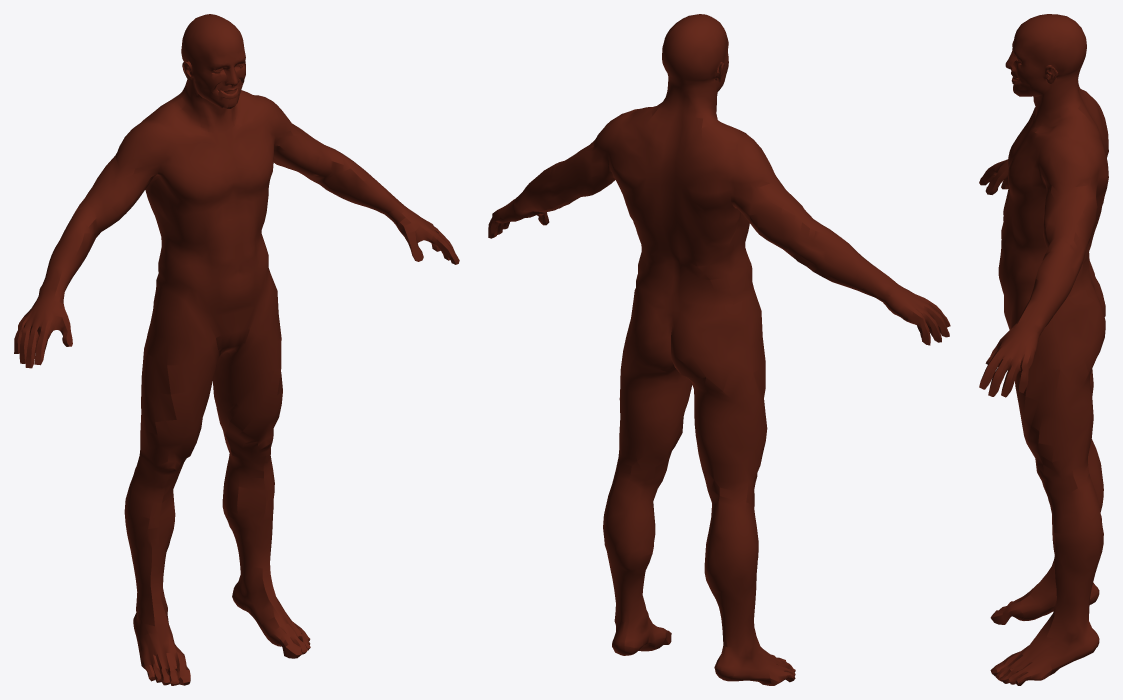
The picture shows the model from 3 angles, left to right: view 1: azimuth 30°, elevation 25°; view 2: azimuth 150°, elevation 25°; view 3: azimuth 270°, elevation 25°; orthographic projection. The views are drawn at different scales.
Parts seen in each view (by area): view 1: Mesh_Default_0; view 2: Mesh_Default_0; view 3: Mesh_Default_0.
Boxes of the visible parts, left/top/right/bottom form: Mesh_Default_0: left=14, top=14, right=459, bottom=685; Mesh_Default_0: left=488, top=14, right=950, bottom=685; Mesh_Default_0: left=979, top=14, right=1108, bottom=685.
Size of the model in its own units: 1.3 by 1.82 by 0.3376.
